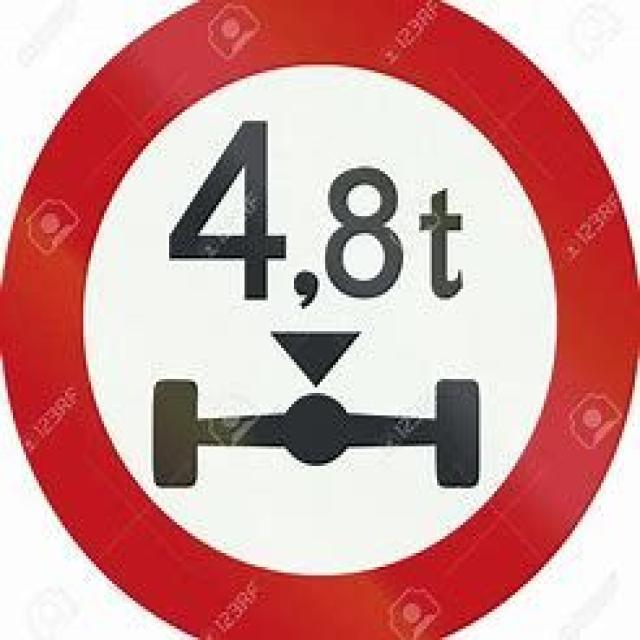axle load limit: (19, 12, 626, 622)
